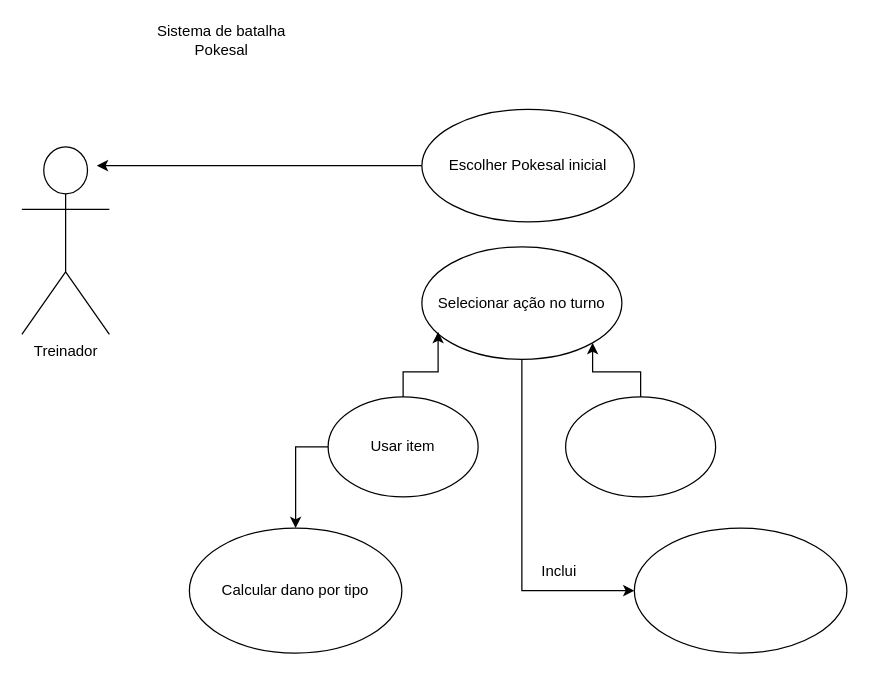
Some shapes in this 869 by 675 pixel diagram are drawn without their labels. The centre of each missing label's shape, as x and y in pixels:
"Aplicar efeito de turno" belongs at point 740,590.
"Atacar" belongs at point 640,446.
